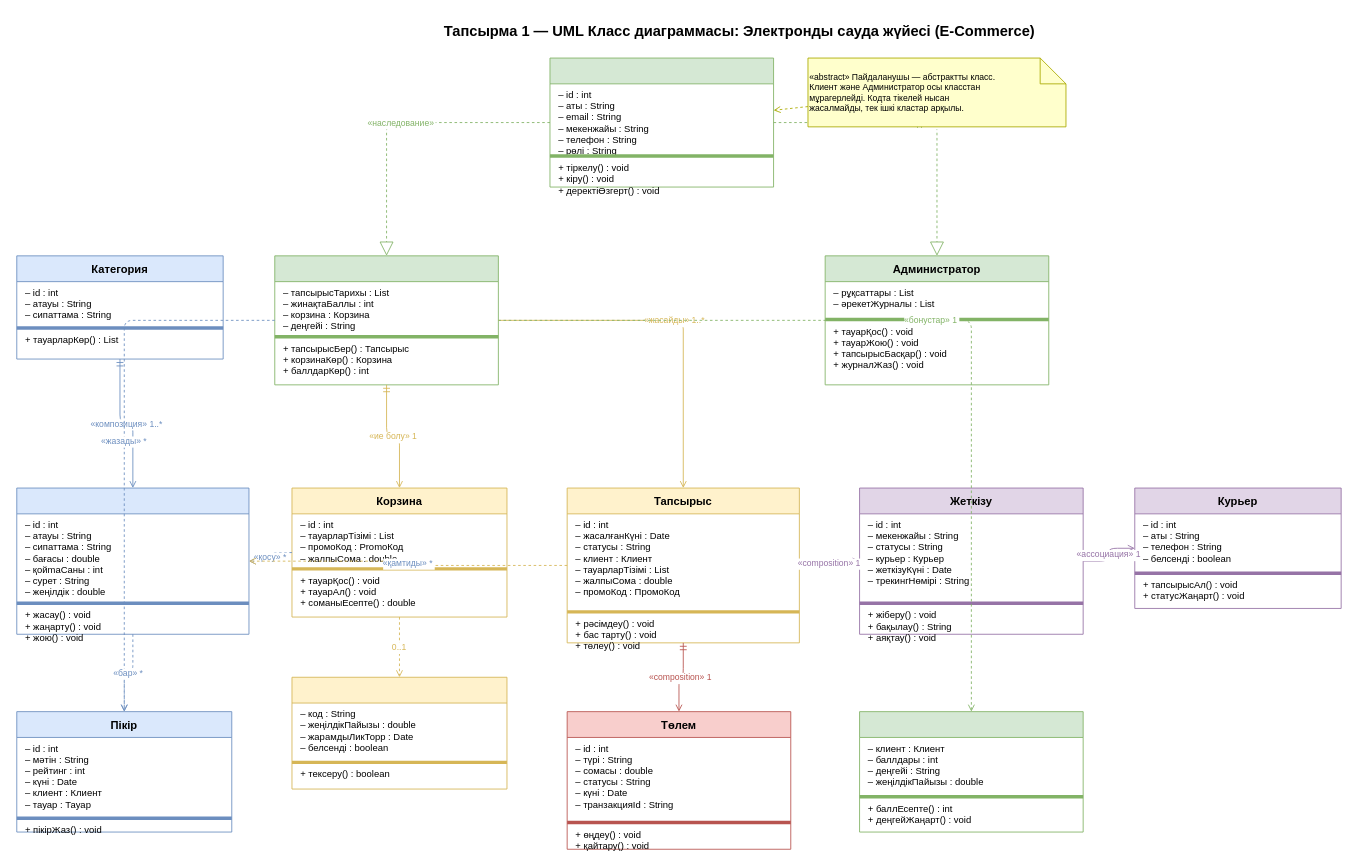
Some shapes in this 1357 by 865 pixel diagram are drawn without their labels. Each missing label, with the box of its shape:
«abstract» Пайдаланушы: (549, 57, 774, 187)
Клиент: (274, 255, 498, 385)
Лояльдылық бағдарламасы: (859, 711, 1083, 832)
ПромоКод: (291, 676, 507, 789)
Тауар: (16, 487, 249, 634)
